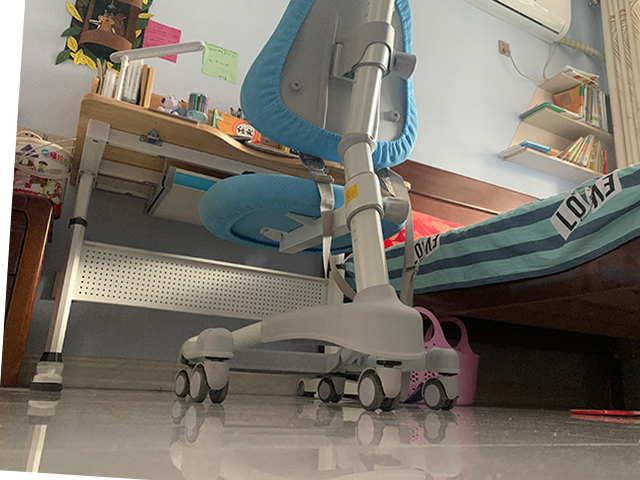bed: (380, 156, 640, 407)
table: (30, 92, 346, 401)
